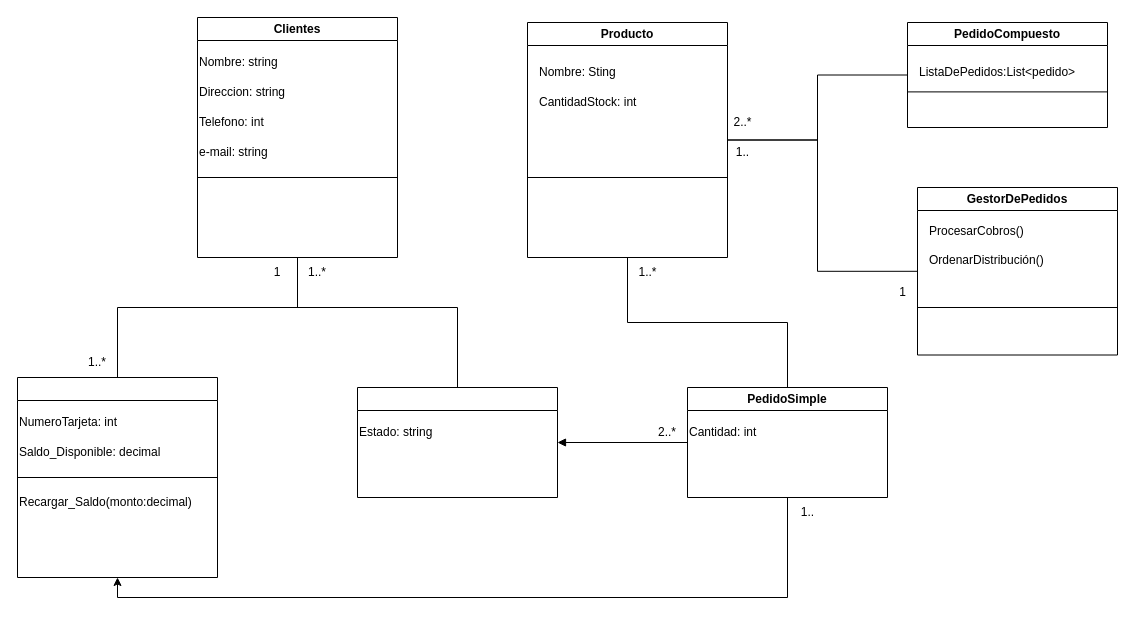
The diagram is 1136 pixels wide and 623 high, and some of its shapes have lost their labels. Here are the shapes that lost their labels. From the top down, the box of each, then its label:
(356, 386, 558, 498): Pedido
(16, 376, 218, 578): CuentaPago
